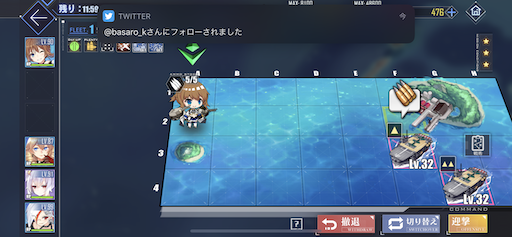lv1: (383, 120, 436, 170)
lv2: (437, 155, 496, 207)
